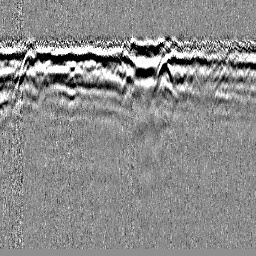cavity: (121, 69, 135, 92)
